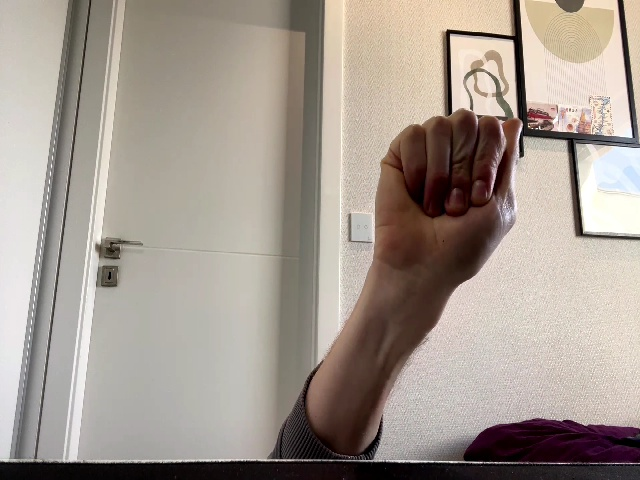A: (373, 107, 523, 281)
